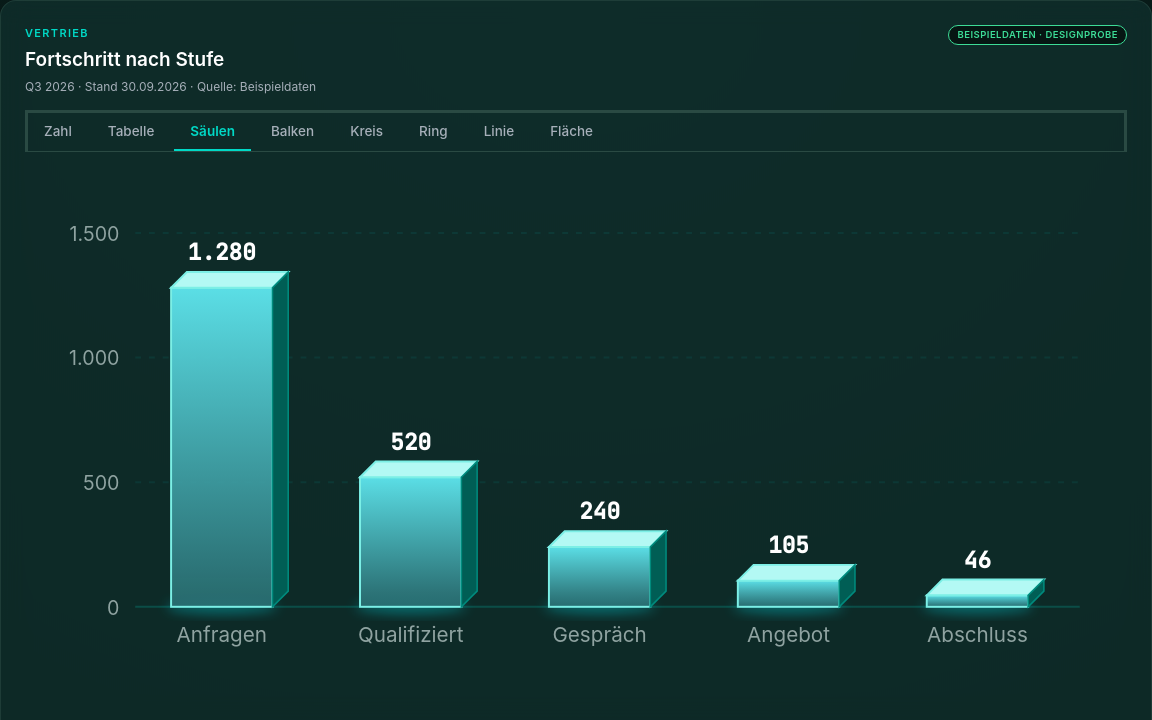
Scenario: DashboardDesignPreview › schaltet auf Zahl und Tabelle um; beide ohne räumlichen Diagrammeffekt
Click the tab "Zahl". click: (58, 132)
box: [28,113,88,151]
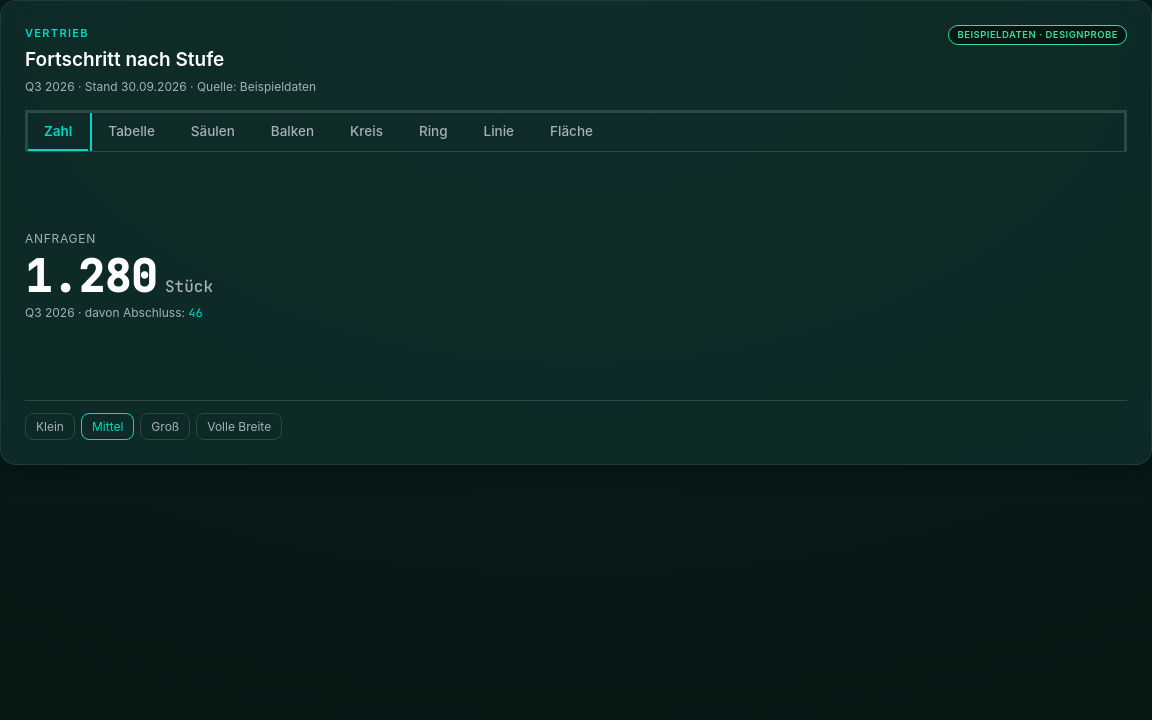
expect the element with test id "number-view" shows "1.280": met, box [25,247,157,305]
Click the tab "Tabelle". click: (132, 132)
box: [92,113,171,151]
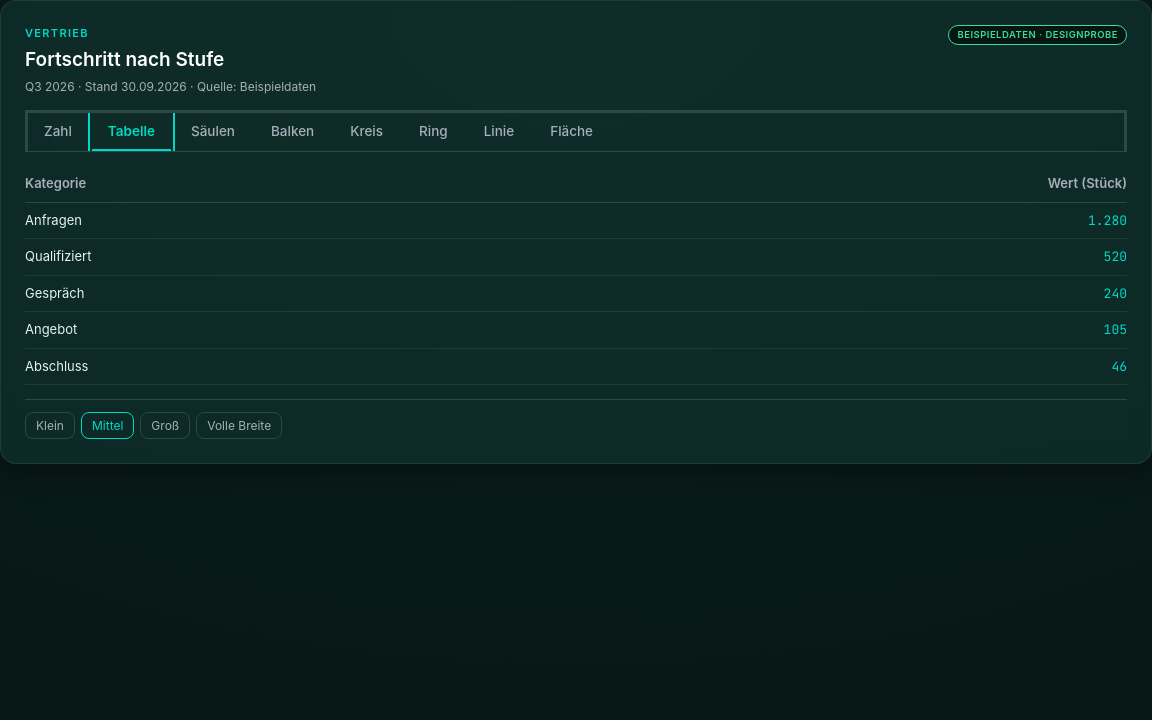
expect the number of rows is 6: met, box [25,166,1127,202]; [25,202,1127,238]; [25,238,1127,275]; [25,275,1127,312]; [25,312,1127,348]; [25,348,1127,384]
